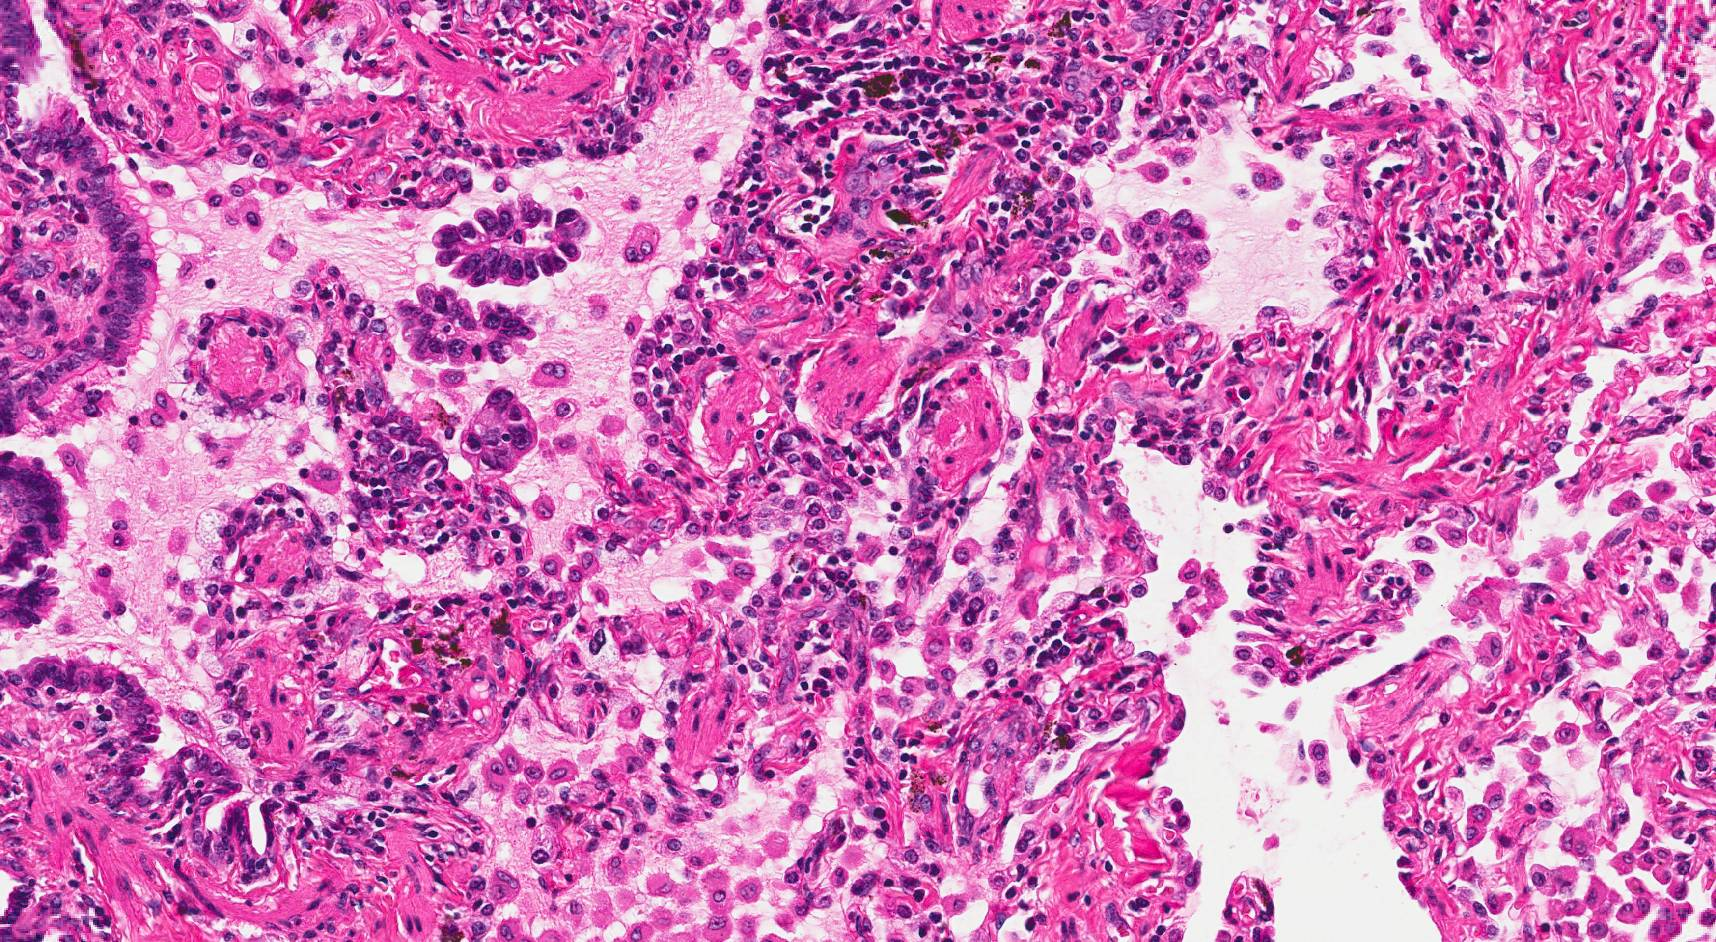stas: (431, 196, 591, 287), (394, 281, 536, 367), (455, 388, 539, 473)
